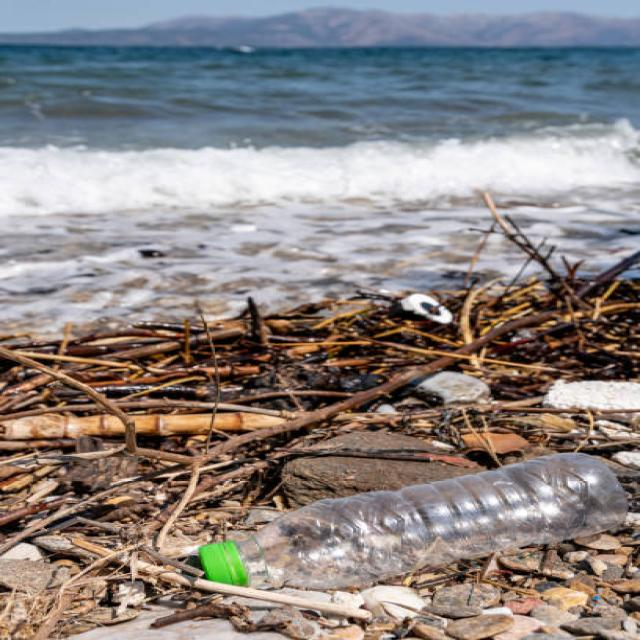plastic: (204, 443, 634, 582)
trash: (57, 299, 610, 415)
